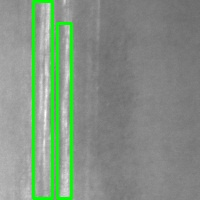scratches: (33, 1, 52, 198), (57, 23, 71, 198)
